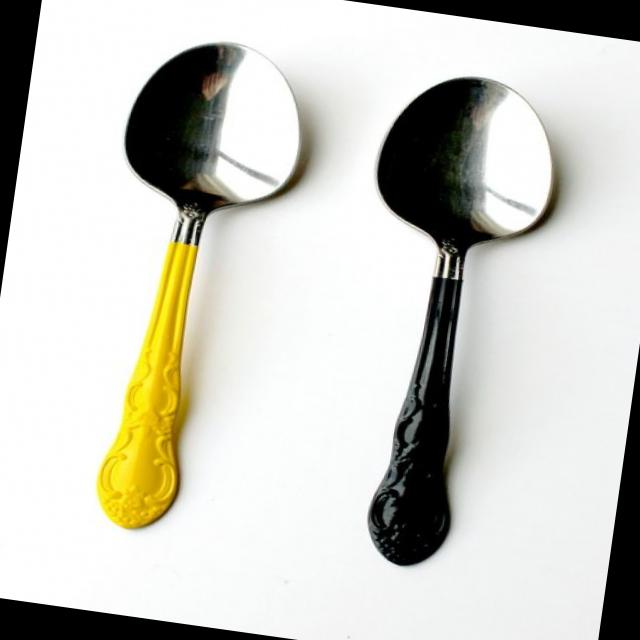spoon: (30, 22, 333, 560)
